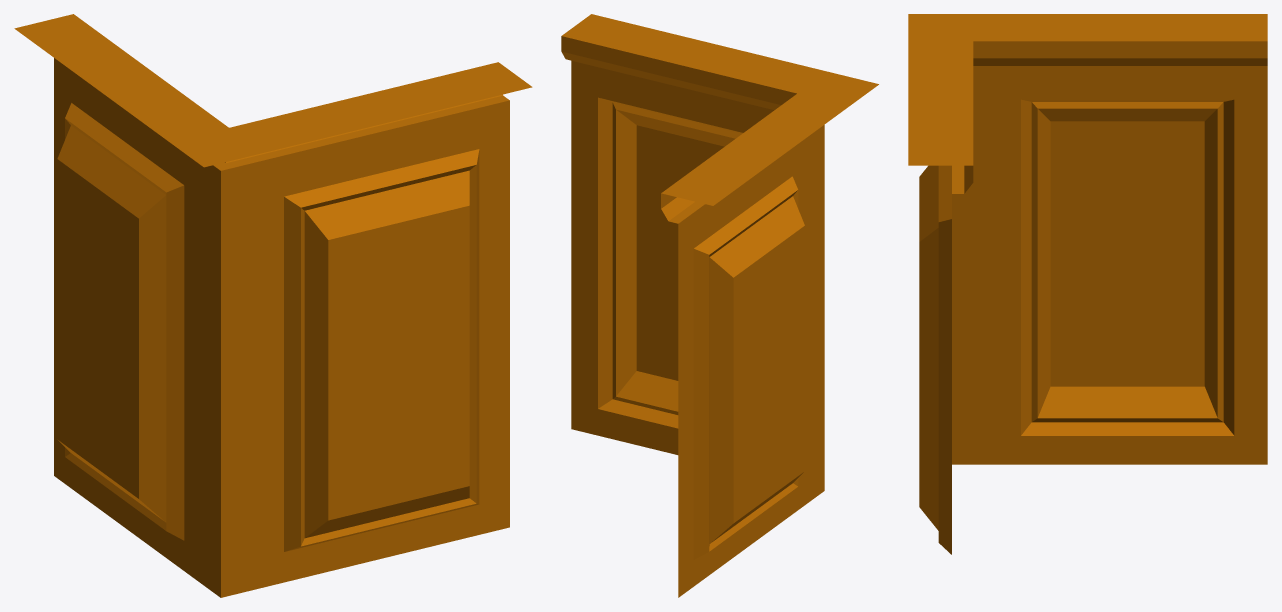
Rendered from wallpiece corner in.glb.
3 views of the same model, side by side, from view 1: azimuth 30°, elevation 25°; view 2: azimuth 150°, elevation 25°; view 3: azimuth 270°, elevation 25° (orthographic). The views are drawn at different scales.
Parts seen in each view (by area): view 1: Wall Corner In; view 2: Wall Corner In; view 3: Wall Corner In.
Part boxes in pixels (x1,y1,x2,y2): Wall Corner In: (14, 14, 532, 597); Wall Corner In: (561, 14, 878, 597); Wall Corner In: (908, 14, 1267, 554).
Bounding box in the file's own units: 2.28 × 3.02 × 2.28.
